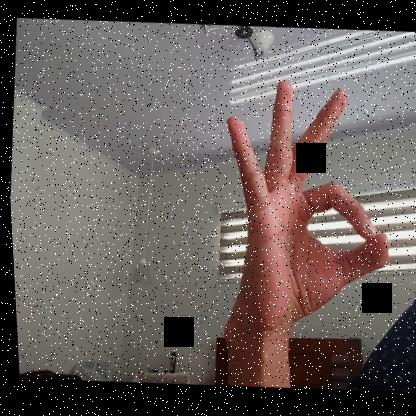F: (206, 77, 401, 340)
